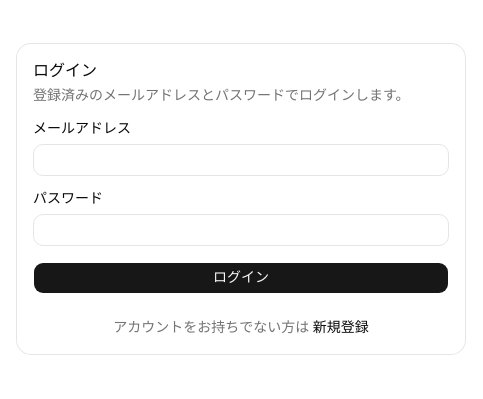
Test case: LoginForm › メールアドレスが空の場合はバリデーションエラーを表示する
Step 1. Click the button "ログイン" → (241, 278), box top-left (33, 262), bottom-right (449, 294)
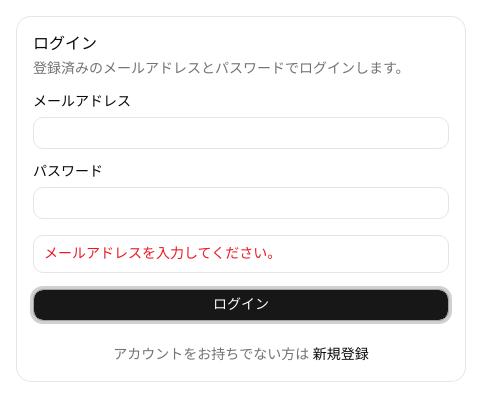
Now the text "メールアドレスを入力してください。" is shown, box top-left (44, 246), bottom-right (281, 261)
